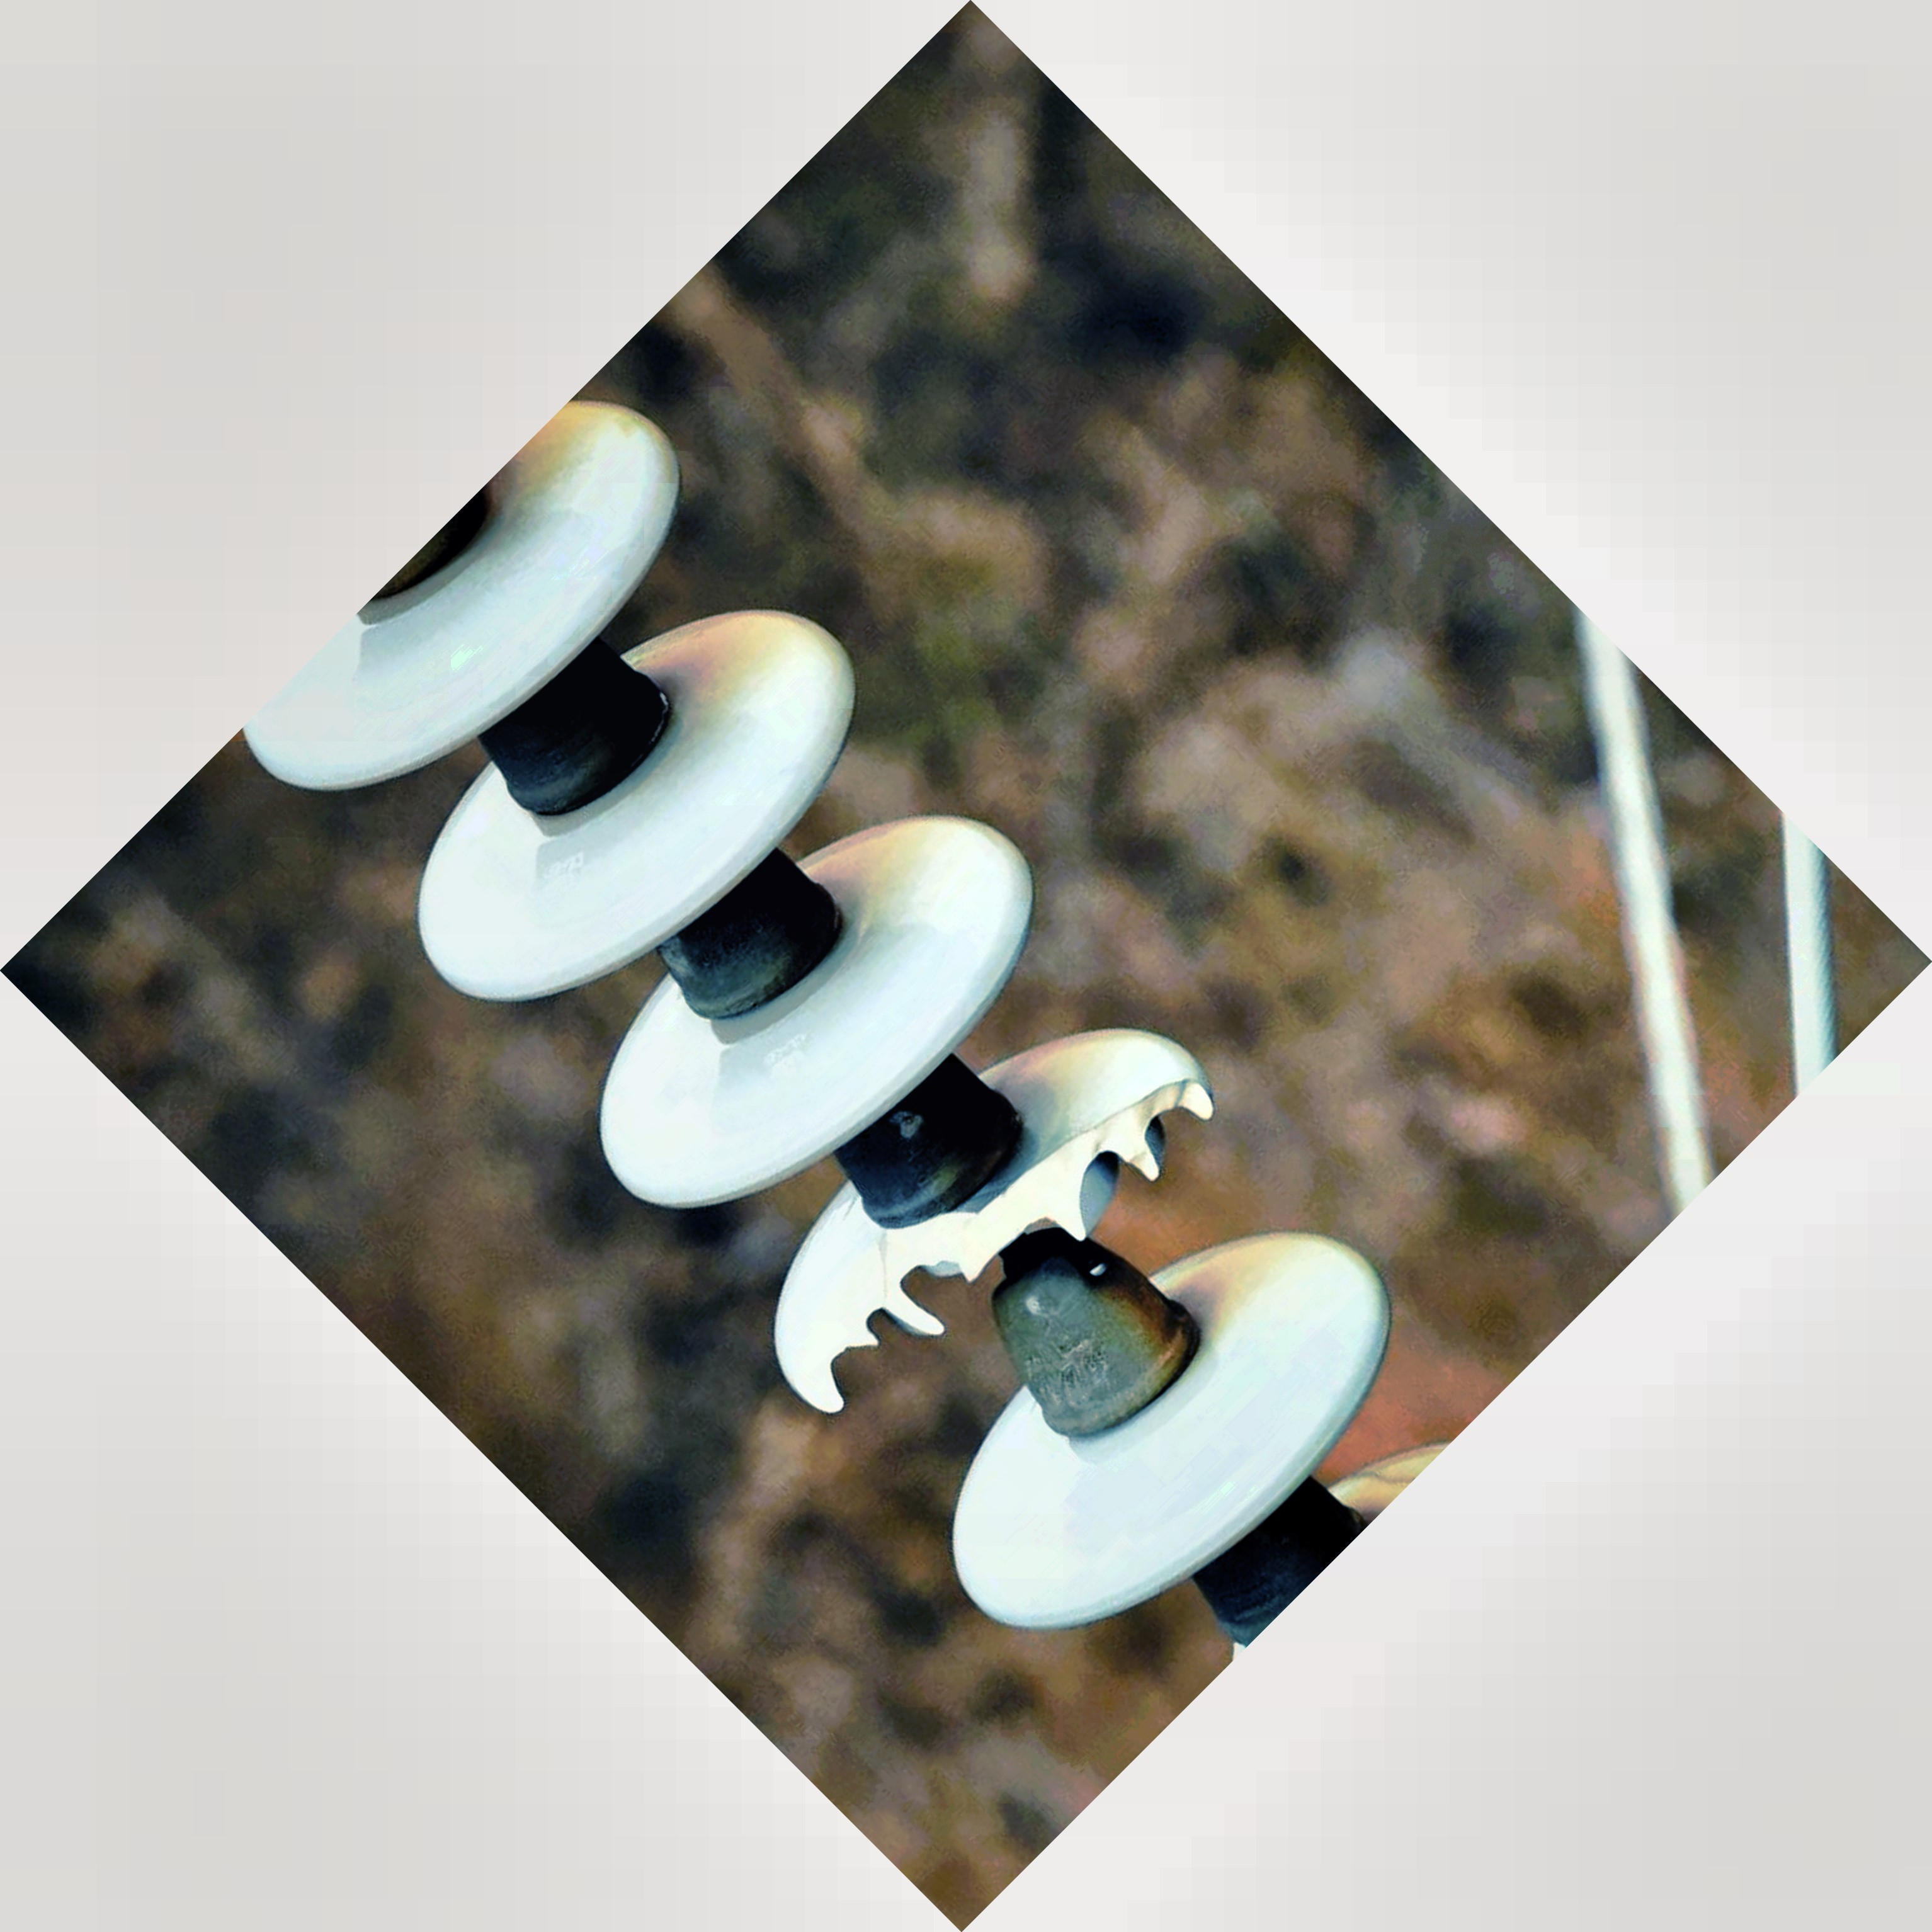insulator breakage: (763, 1030, 1226, 1431)
